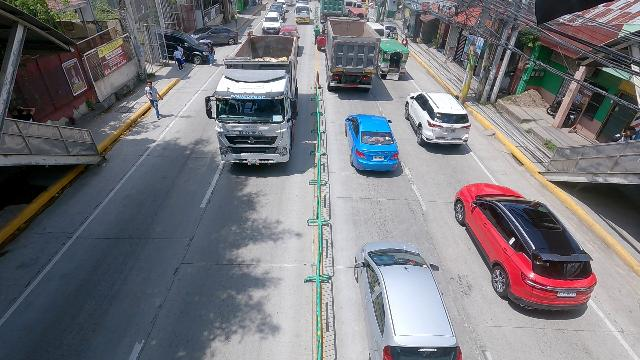car: (451, 183, 598, 323), (351, 240, 467, 360), (402, 91, 473, 149), (343, 114, 402, 180), (145, 26, 217, 66), (261, 11, 282, 36), (279, 24, 299, 40)
jeepney: (378, 39, 411, 81)
truck: (206, 34, 301, 165), (323, 15, 380, 93), (293, 3, 311, 26)
